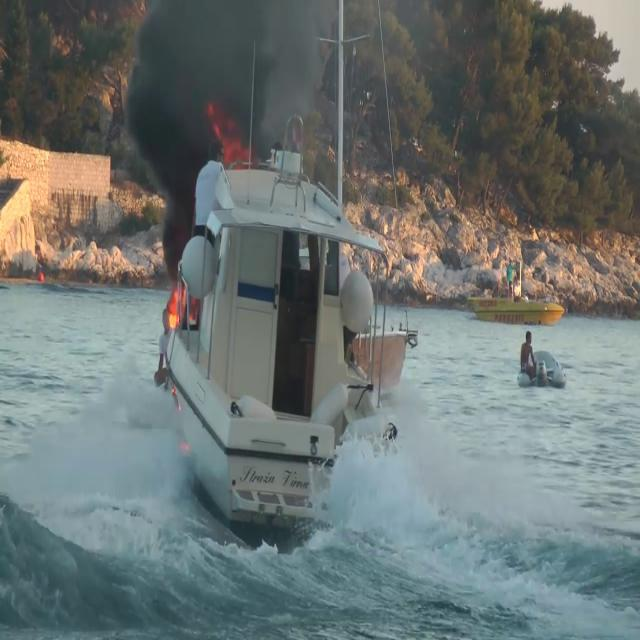Fire: (166, 277, 186, 335)
Smoke: (120, 1, 321, 178)
